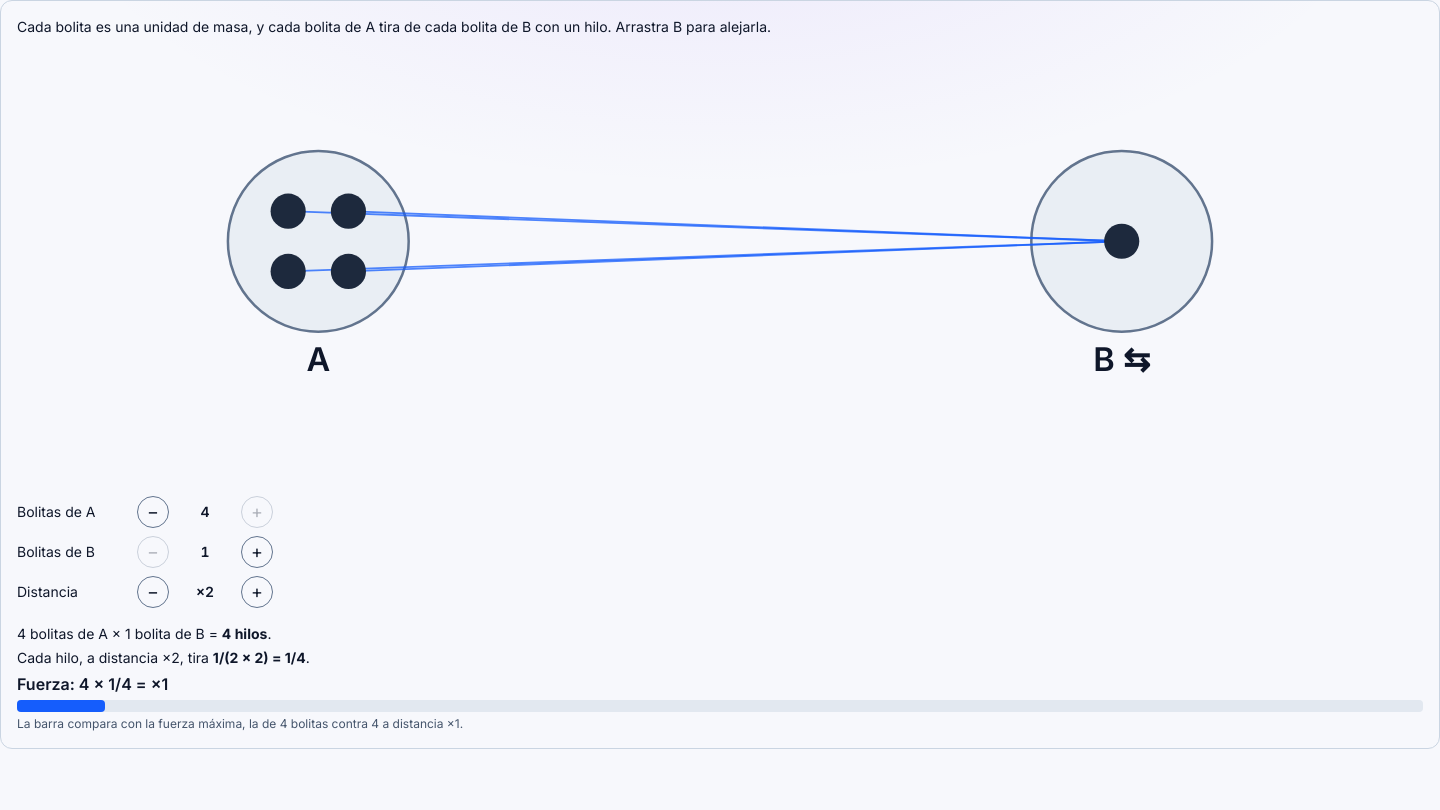
Test: the widget hilos › stays in the reader's hands after a change from outside
The width and height of the screenshot is (1440, 810).
Step 1. Click the button named "Más: Bolitas de B" → (257, 552), box [241,536,273,568]
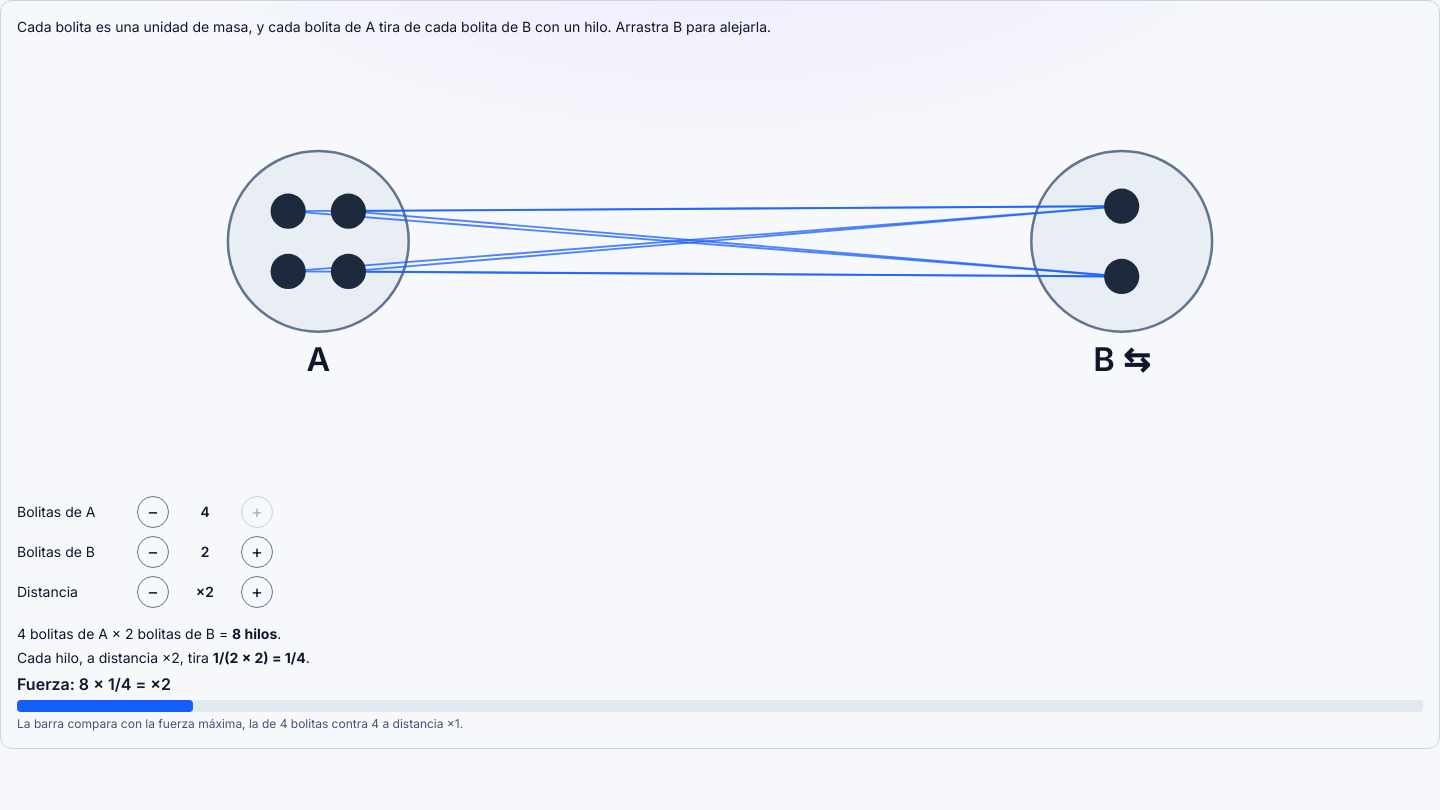
Now the text "Fuerza: 8 × 1/4 = ×2" is shown, box [17,674,171,694]
